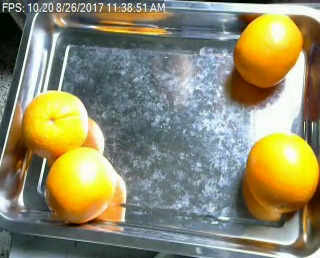Orange: (246, 132, 320, 213), (45, 147, 116, 224), (233, 11, 303, 86), (21, 89, 88, 156)
